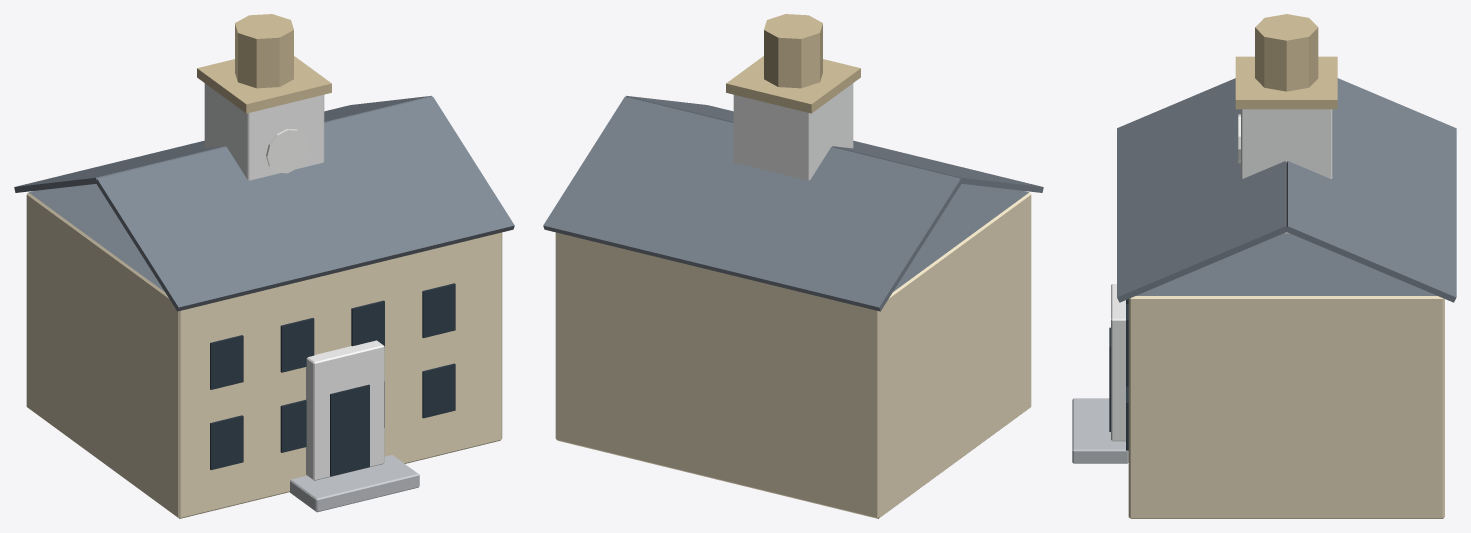
File: admin.fbx
3 views of the same model, side by side, from view 1: azimuth 30°, elevation 25°; view 2: azimuth 150°, elevation 25°; view 3: azimuth 270°, elevation 25° (orthographic). The views are drawn at different scales.
Visible parts, largest first — view 1: admin; view 2: admin; view 3: admin.
Part boxes in pixels (x1,y1,x2,y2): admin: (14,14,514,518); admin: (543,14,1043,518); admin: (1072,14,1456,518).
Size of the model in its own units: 11.4 by 12.9 by 10.93.
